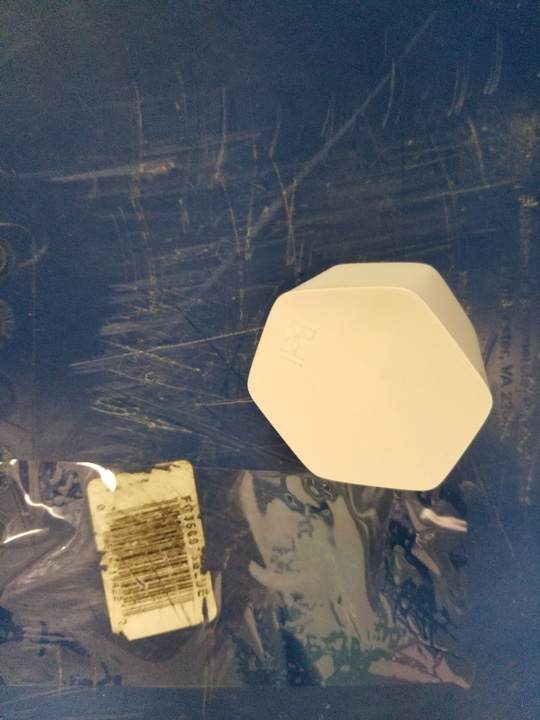pod: (242, 255, 501, 499)
